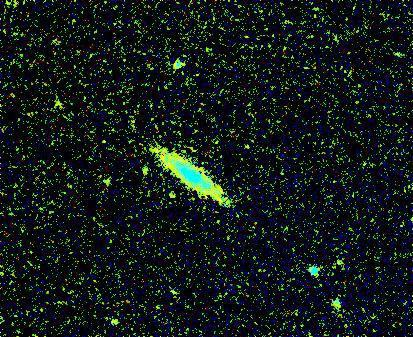star: (156, 177, 186, 207)
